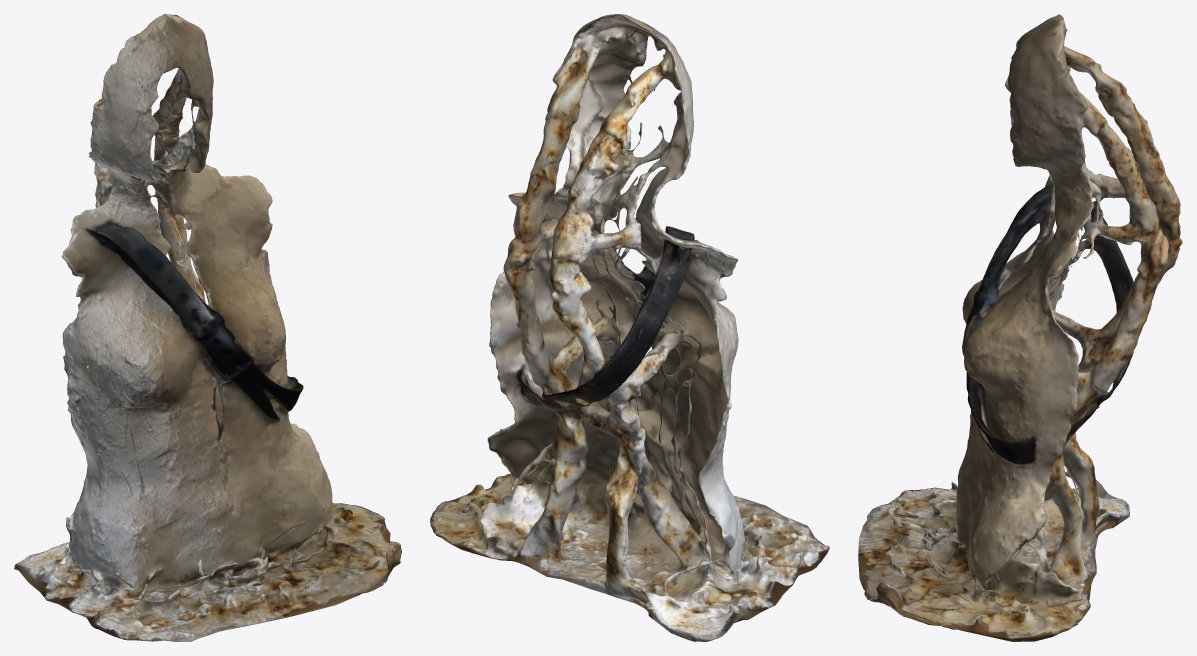
Rendered from FA-002-original.glb.
3 renders of one model, left to right at view 1: azimuth 30°, elevation 25°; view 2: azimuth 150°, elevation 25°; view 3: azimuth 270°, elevation 25°, orthographic. The views are drawn at different scales.
Parts seen in each view (by area): view 1: 3DModel; view 2: 3DModel; view 3: 3DModel.
Boxes of the visible parts, bbox=[...] form: 3DModel: bbox=[14, 14, 401, 641]; 3DModel: bbox=[430, 14, 829, 641]; 3DModel: bbox=[858, 14, 1182, 641].
Size of the model in its own units: 0.8093 by 1.29 by 0.6998.
Materials: 1 (1 with a texture image).
